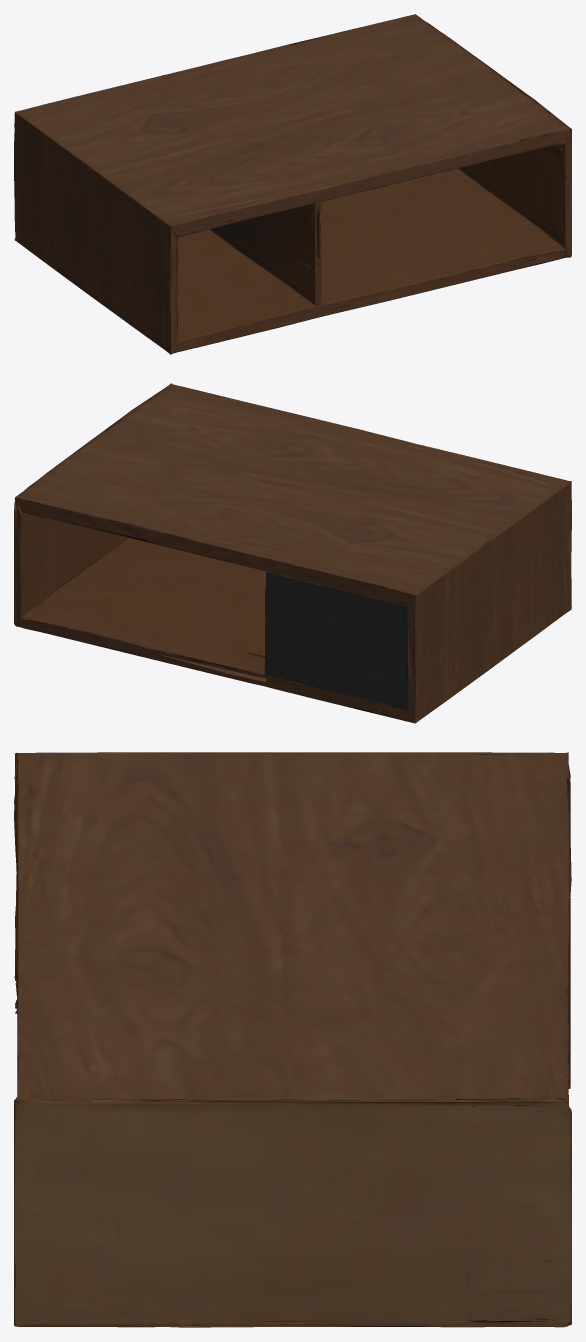
Rendered from desktop.glb.
3 renders of one model, top to bottom at view 1: azimuth 30°, elevation 25°; view 2: azimuth 150°, elevation 25°; view 3: azimuth 270°, elevation 25°, orthographic. The views are drawn at different scales.
Parts seen in each view (by area): view 1: coffeetable; view 2: coffeetable; view 3: coffeetable.
Boxes of the visible parts, box(x1,y1,x2,y2) form: coffeetable: box(14, 14, 571, 354); coffeetable: box(14, 383, 571, 723); coffeetable: box(14, 752, 571, 1327).
Size of the model in its own units: 1.05 by 0.3219 by 0.7074.
1 material, 1 textured.
